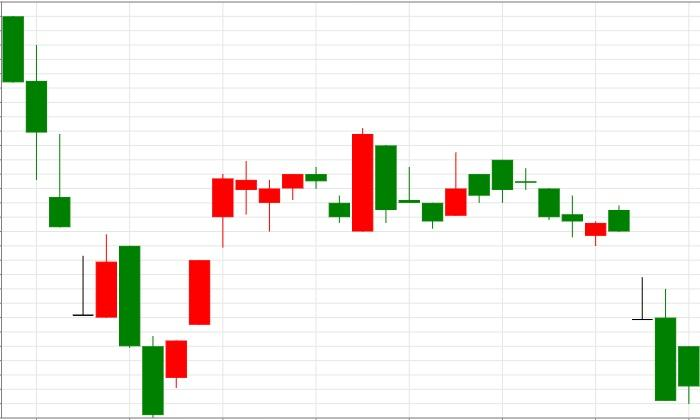three_white_soldiers_rise: (2, 16, 233, 417)
